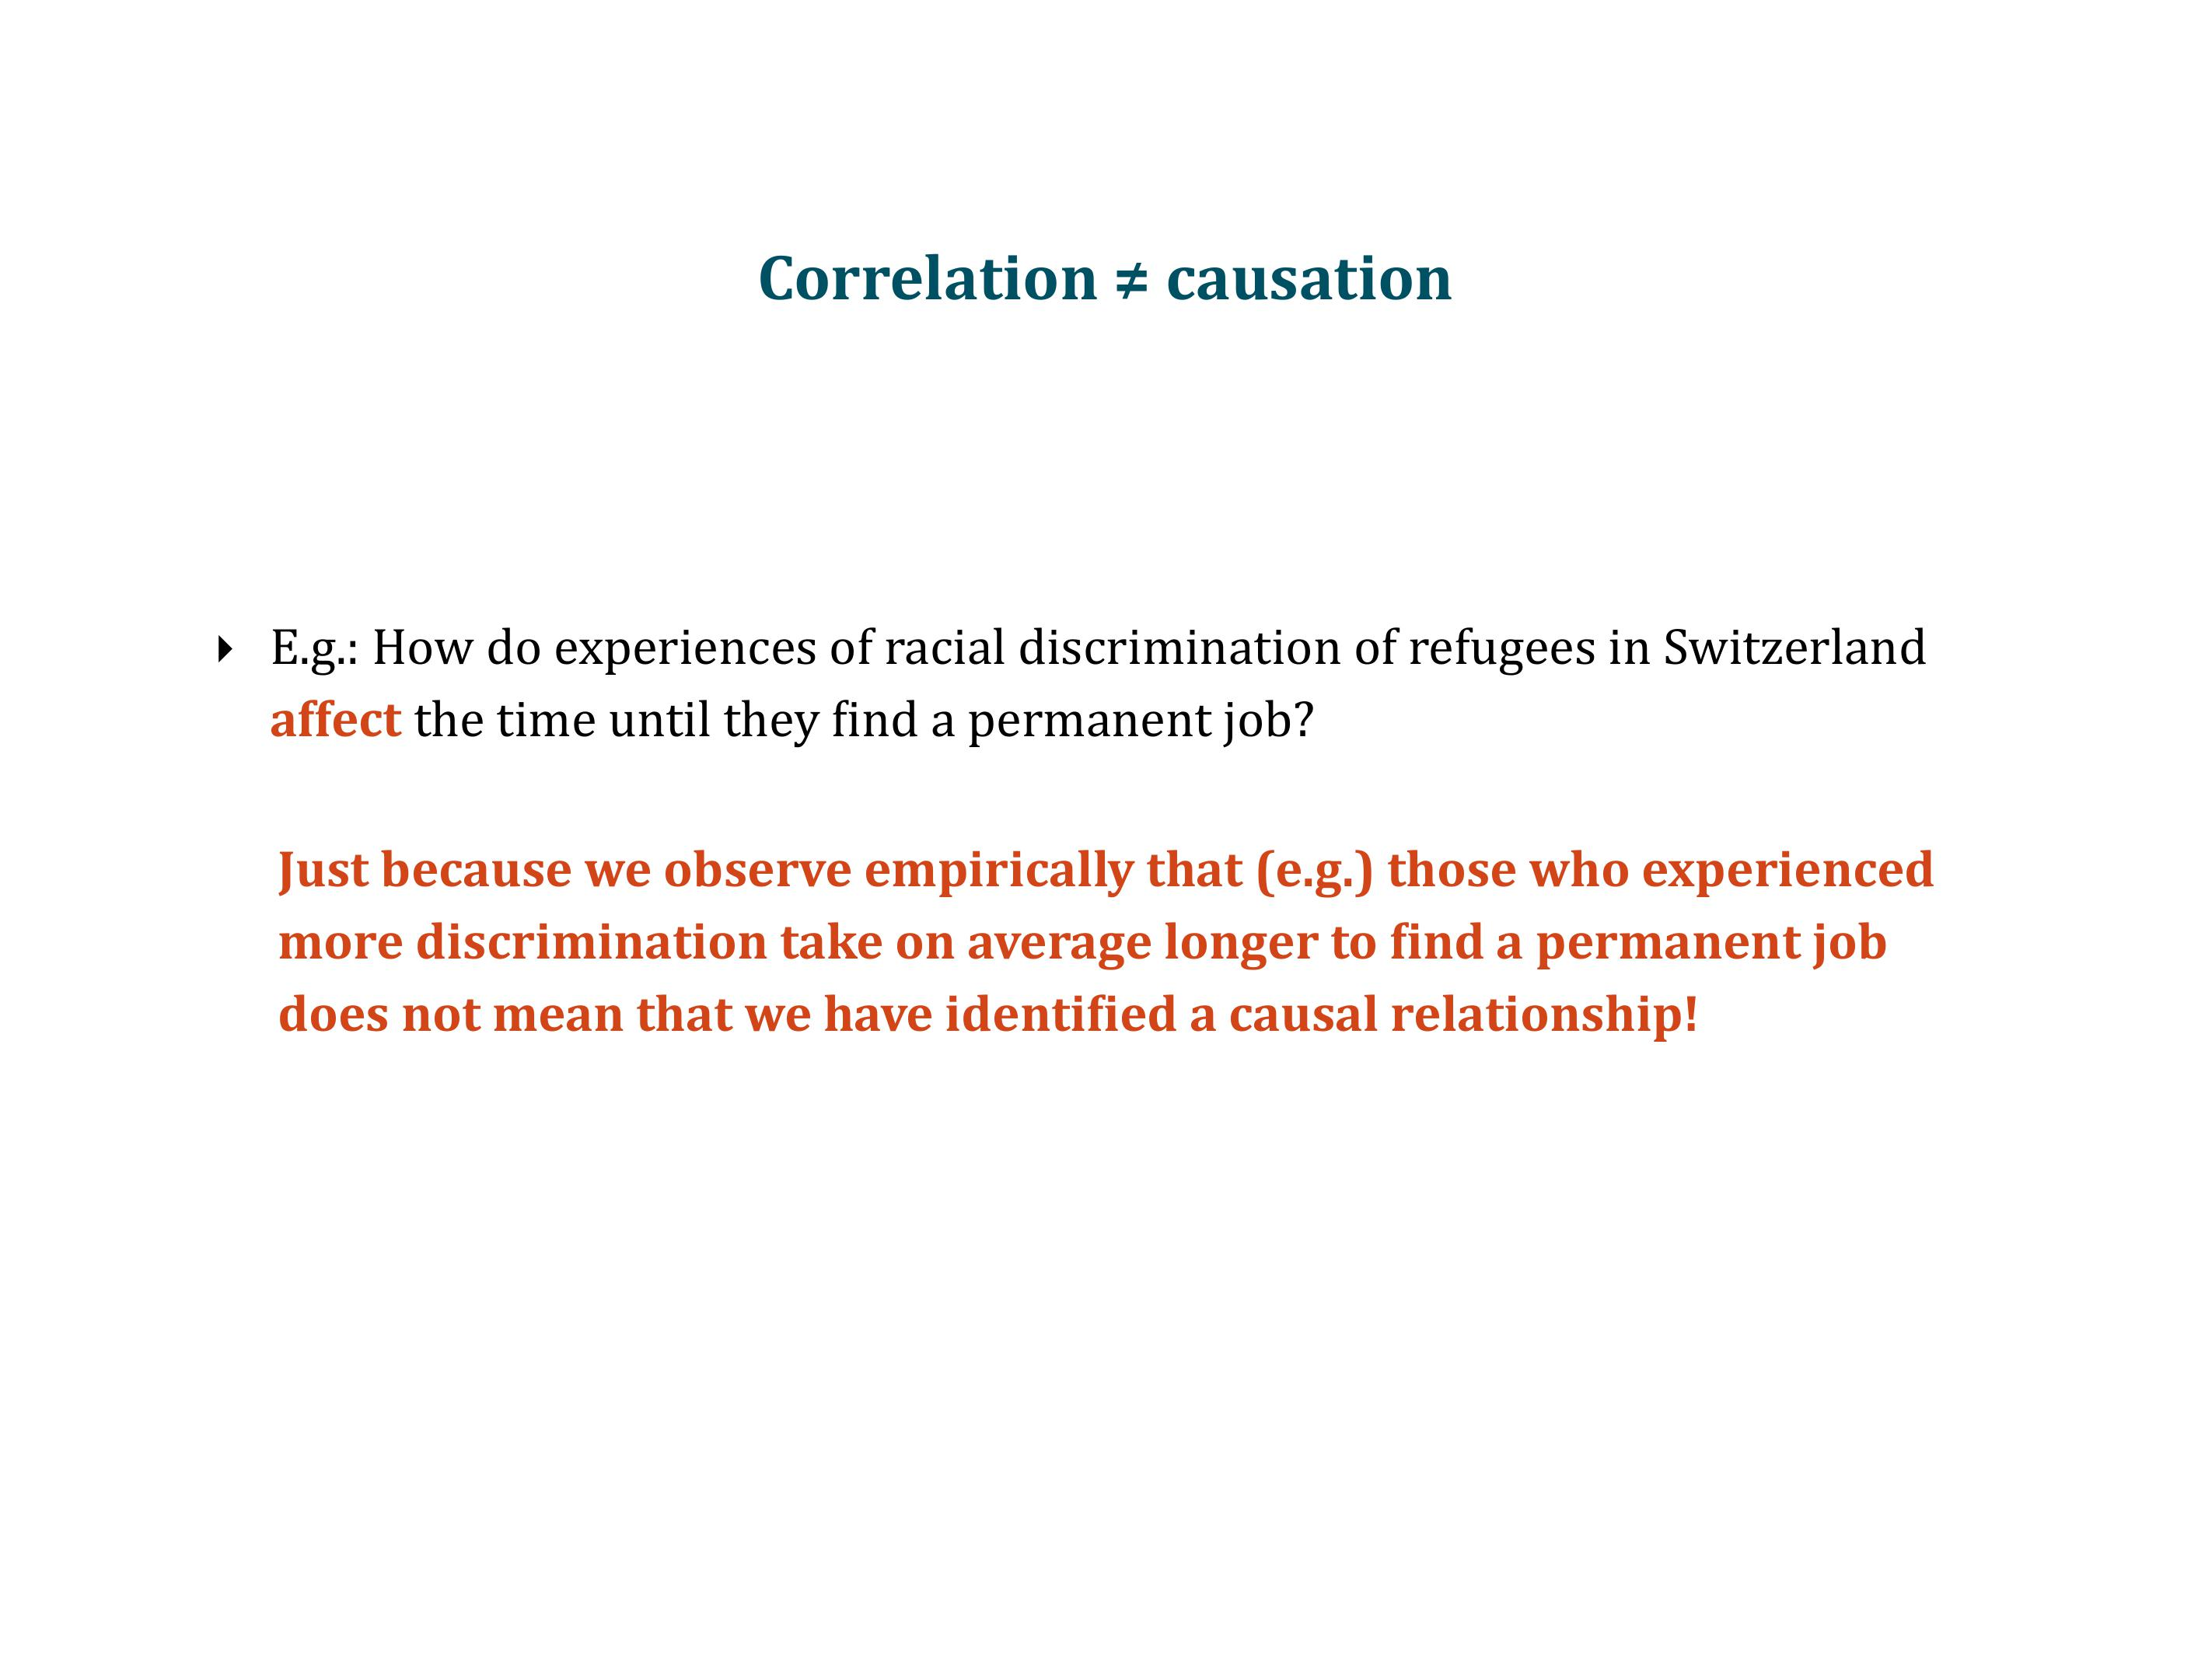Title: (720, 225, 1454, 335)
